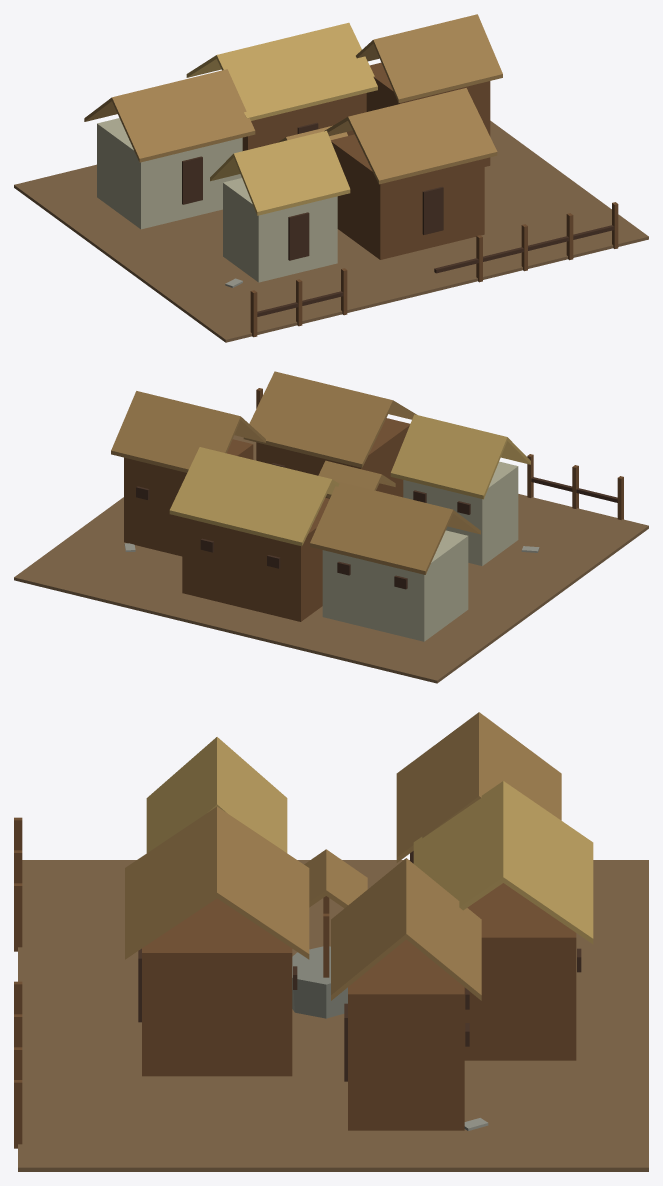
Rendered from world_village_1000.obj.
3 views of the same model, one above another, from view 1: azimuth 30°, elevation 25°; view 2: azimuth 150°, elevation 25°; view 3: azimuth 270°, elevation 25° (orthographic). The views are drawn at different scales.
Visible parts, largest first — view 1: village_ground, house4, roof1_right, roof4_right, house0, roof0_right, roof2_right, house3, roof3_right, house1, fence_post, house2 (+4 smaller); view 2: village_ground, house1, house0, roof1_left, roof4_left, roof0_left, roof2_left, roof3_left, house2, house3, house4, well_roof_left (+2 smaller); view 3: village_ground, house4, house2, house1, roof1_left, roof4_left, roof4_right, roof0_right, roof1_right, roof2_right, roof2_left, roof0_left (+6 smaller).
Part boxes in pixels (x1,y1,x2,y2): village_ground: (14, 120, 648, 342); house4: (331, 134, 484, 259); roof1_right: (216, 22, 377, 120); roof4_right: (348, 88, 497, 184); house0: (97, 118, 242, 229); roof0_right: (112, 69, 255, 162); roof2_right: (373, 14, 502, 102); house3: (223, 178, 337, 282); roof3_right: (233, 130, 350, 215); house1: (242, 93, 366, 150); fence_post: (250, 202, 618, 337); house2: (366, 62, 490, 166); village_ground: (14, 435, 648, 683); house1: (182, 497, 329, 621); house0: (322, 530, 468, 641); roof1_left: (169, 447, 332, 546); roof4_left: (243, 371, 393, 467); roof0_left: (310, 481, 453, 574); roof2_left: (111, 391, 240, 472); roof3_left: (390, 414, 507, 499); house2: (124, 439, 253, 556); house3: (403, 461, 518, 565); house4: (256, 418, 410, 498); well_roof_left: (318, 460, 381, 497); village_ground: (18, 860, 648, 1171); house4: (142, 898, 292, 1076); house2: (348, 939, 464, 1130); house1: (464, 883, 576, 1060); roof1_left: (503, 781, 593, 944); roof4_left: (217, 806, 309, 959); roof4_right: (125, 807, 216, 959); roof0_right: (396, 712, 478, 862); roof1_right: (413, 781, 503, 910); roof2_right: (331, 858, 406, 1000); roof2_left: (406, 858, 481, 1000); roof0_left: (479, 712, 561, 820).
Bounding box in the file's own units: 15 × 4.74 × 13.09.
